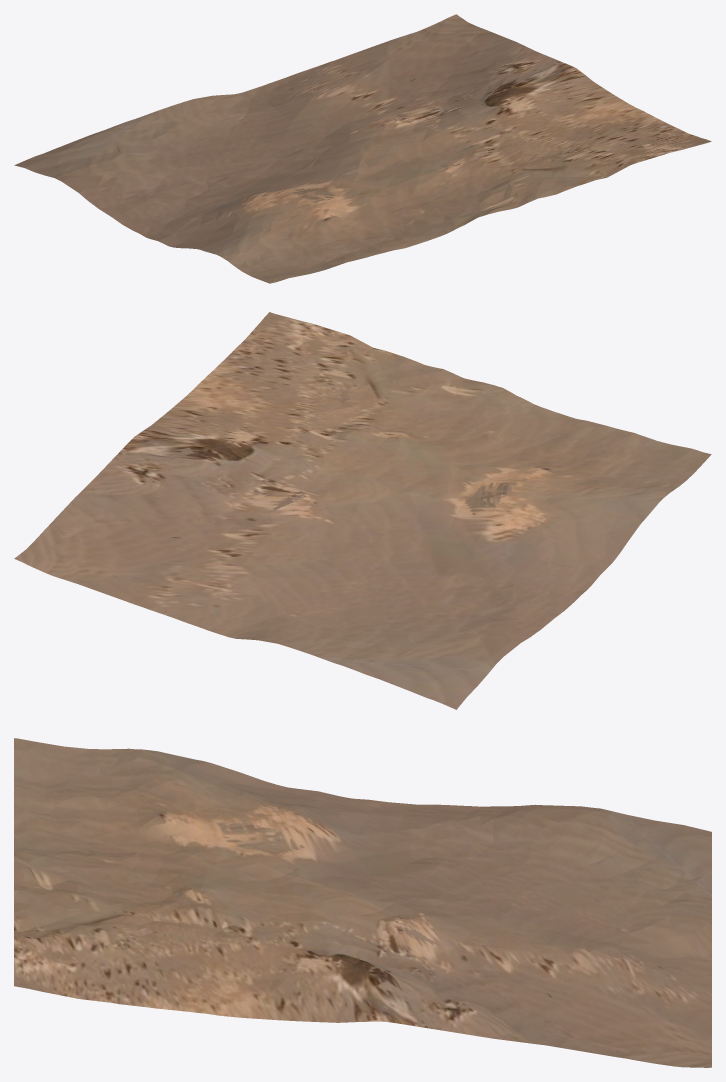
The picture shows the model from 3 angles, top to bottom: view 1: azimuth 30°, elevation 25°; view 2: azimuth 150°, elevation 25°; view 3: azimuth 270°, elevation 25°; orthographic projection. The views are drawn at different scales.
Bounding box in the file's own units: 2.09 × 0.4646 × 2.09.
2 materials, 2 textured.
